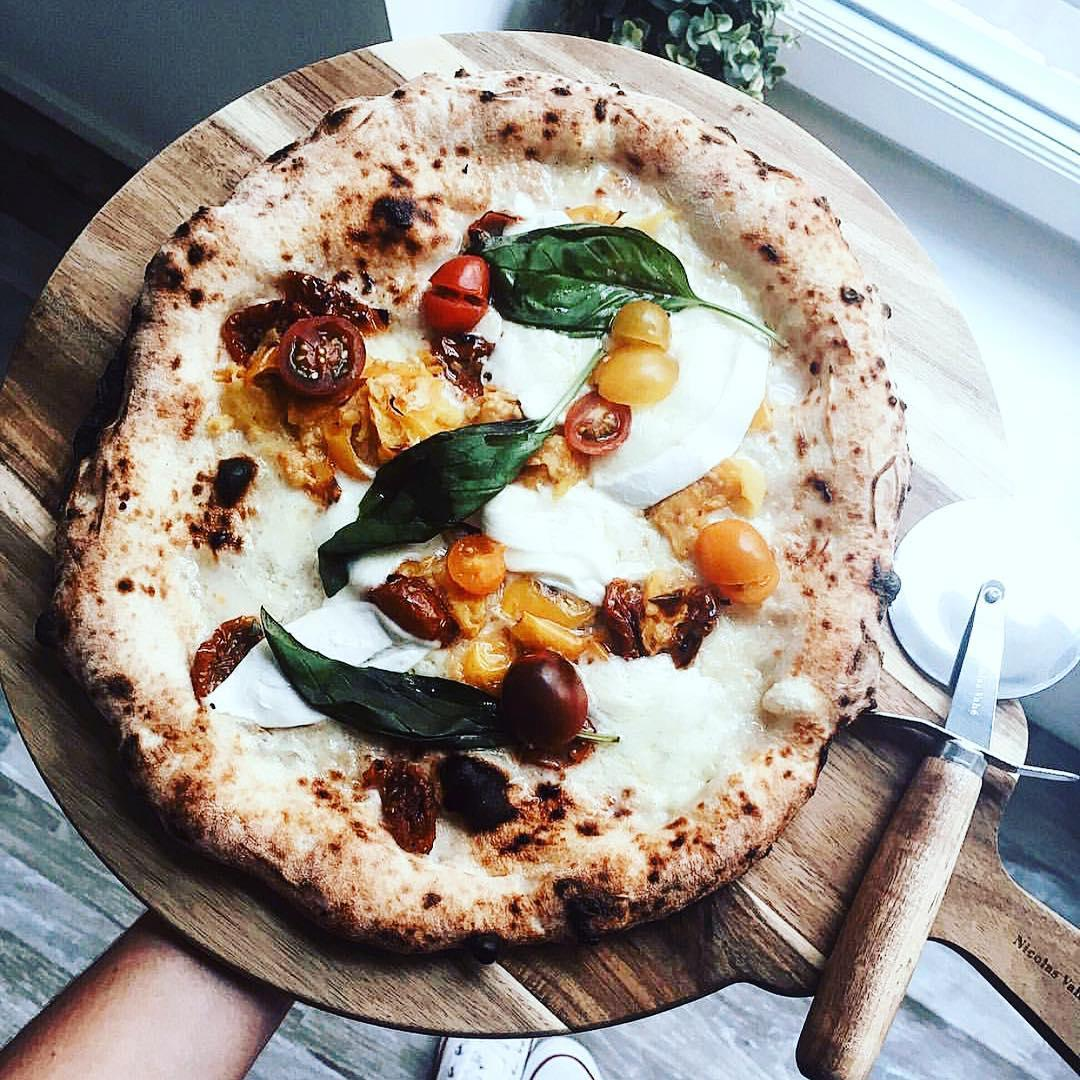Basil: (319, 409, 548, 582), (257, 619, 516, 752), (479, 225, 700, 333)
Cheese: (621, 293, 769, 502), (485, 477, 689, 593), (231, 589, 393, 710), (493, 309, 600, 413)
Olives: (501, 657, 588, 762), (372, 577, 457, 642)
Pizza: (64, 81, 900, 965)
Tomatoes: (599, 293, 677, 408), (699, 517, 773, 612), (607, 577, 692, 652), (515, 579, 592, 656), (193, 611, 257, 698), (377, 763, 440, 850), (289, 321, 365, 393), (423, 255, 489, 334), (369, 371, 440, 444), (451, 531, 501, 592), (573, 393, 624, 452), (473, 607, 502, 677)
